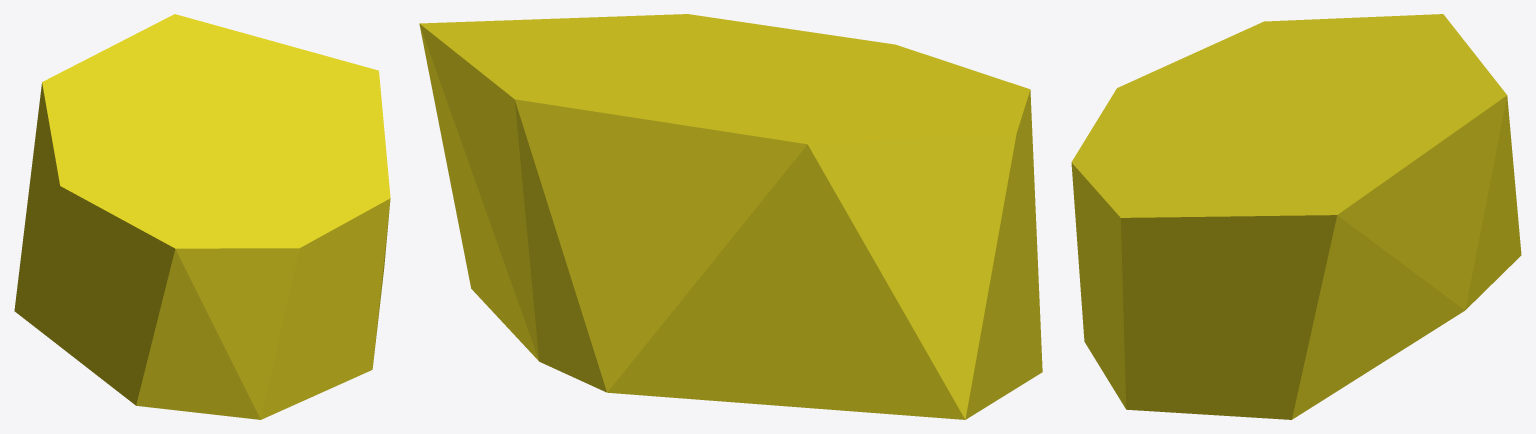
File: push.fbx
3 views of the same model, side by side, from view 1: azimuth 30°, elevation 25°; view 2: azimuth 150°, elevation 25°; view 3: azimuth 270°, elevation 25° (orthographic). The views are drawn at different scales.
Visible parts, largest first — view 1: push; view 2: push; view 3: push.
Boxes of the visible parts, left/top/right/bottom form: push: left=14, top=14, right=390, bottom=419; push: left=419, top=14, right=1042, bottom=419; push: left=1071, top=14, right=1521, bottom=419.
Size of the model in its own units: 8.59 by 5.83 by 7.93.
